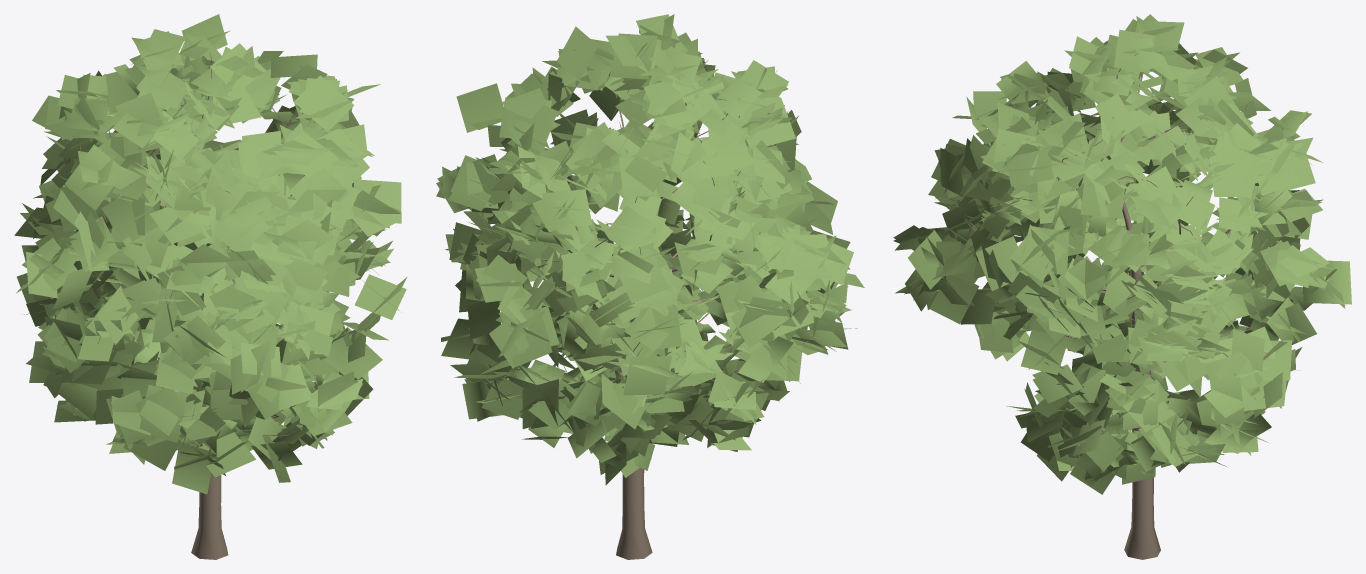
File: Maple_2_lod1.glb
3 views of the same model, side by side, from view 1: azimuth 30°, elevation 25°; view 2: azimuth 150°, elevation 25°; view 3: azimuth 270°, elevation 25° (orthographic). The views are drawn at different scales.
Visible parts, largest first — view 1: Maple_2_lod1; view 2: Maple_2_lod1; view 3: Maple_2_lod1.
Boxes of the visible parts, x1,y1,x2,y2 form: Maple_2_lod1: (14, 14, 407, 559); Maple_2_lod1: (436, 14, 864, 559); Maple_2_lod1: (893, 14, 1351, 559).
Bounding box in the file's own units: 16.18 × 21.49 × 17.35.
